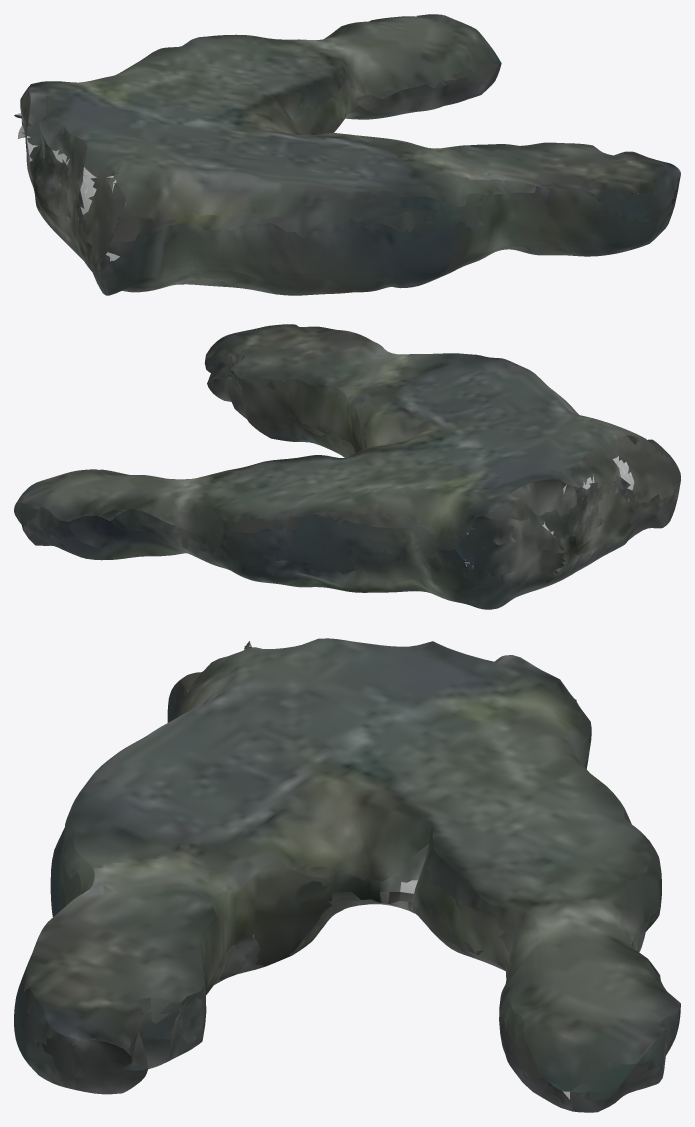
The model's file is preview.glb.
3 renders of one model, top to bottom at view 1: azimuth 30°, elevation 25°; view 2: azimuth 150°, elevation 25°; view 3: azimuth 270°, elevation 25°, orthographic. The views are drawn at different scales.
Visible parts, largest first — view 1: Object_2; view 2: Object_2; view 3: Object_2.
Boxes of the visible parts, box(x1,y1,x2,y2) form: Object_2: box(14, 14, 680, 295); Object_2: box(14, 324, 680, 609); Object_2: box(14, 638, 680, 1112).
Bounding box in the file's own units: 48.57 × 10.76 × 40.45.
1 material, 1 textured.
